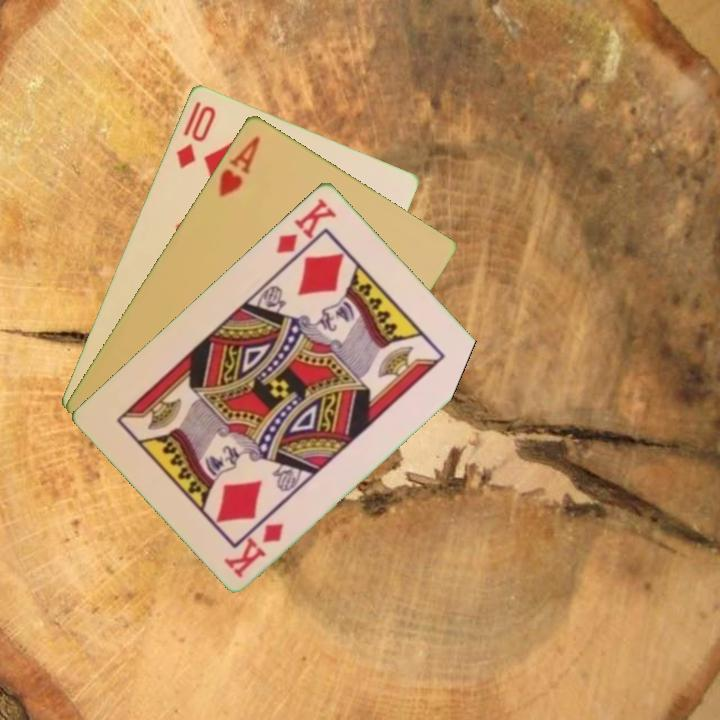10d: (172, 101, 219, 171)
Ah: (214, 131, 263, 200)
Kd: (272, 194, 340, 268), (220, 518, 287, 581)
